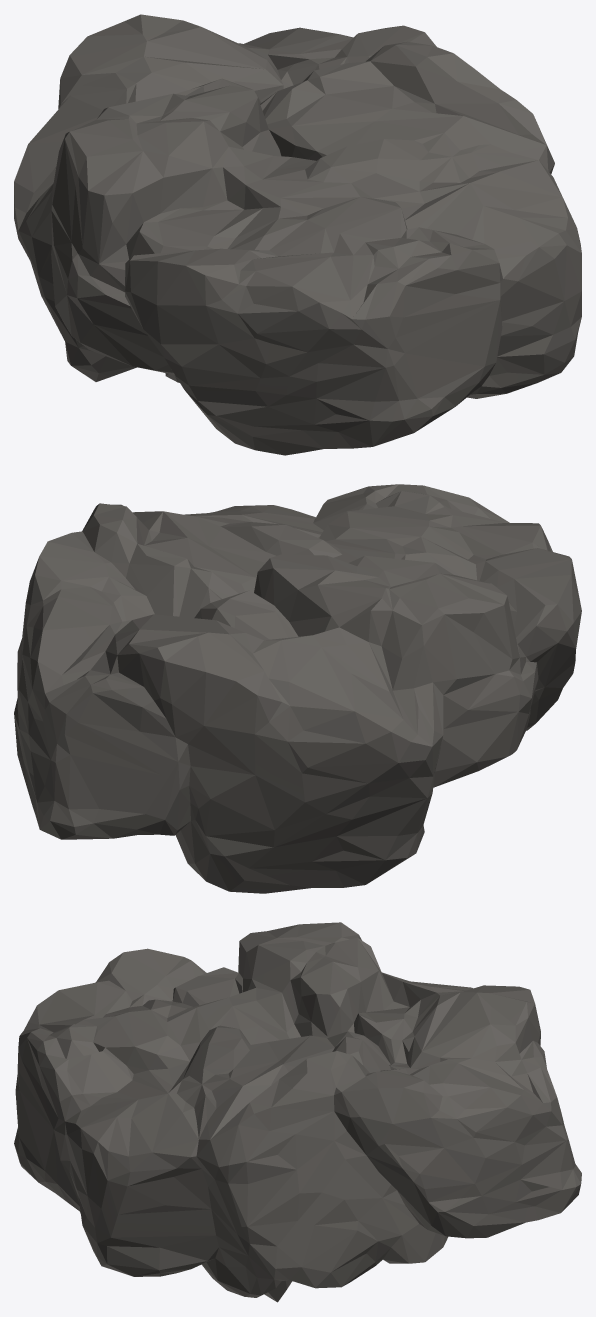
File: env_cliff4.gltf
The picture shows the model from 3 angles, top to bottom: view 1: azimuth 30°, elevation 25°; view 2: azimuth 150°, elevation 25°; view 3: azimuth 270°, elevation 25°; orthographic projection. The views are drawn at different scales.
Visible parts, largest first — view 1: env_cliff4; view 2: env_cliff4; view 3: env_cliff4.
Boxes of the visible parts, x1=… form: env_cliff4: x1=14, y1=14, x2=581, y2=455; env_cliff4: x1=14, y1=484, x2=581, y2=893; env_cliff4: x1=14, y1=922, x2=581, y2=1302.
Size of the model in its own units: 16.62 by 9.7 by 20.33.
Materials: 1 (1 with a texture image).
